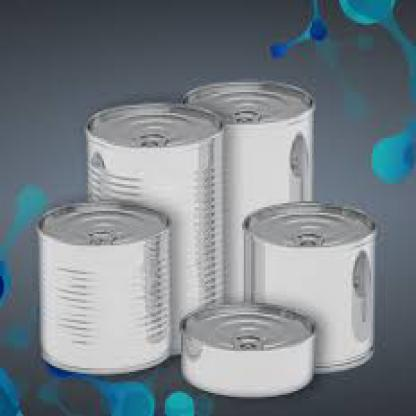METAL: (85, 101, 223, 352), (181, 80, 312, 305), (36, 199, 170, 374), (240, 201, 375, 372), (178, 301, 315, 397)
